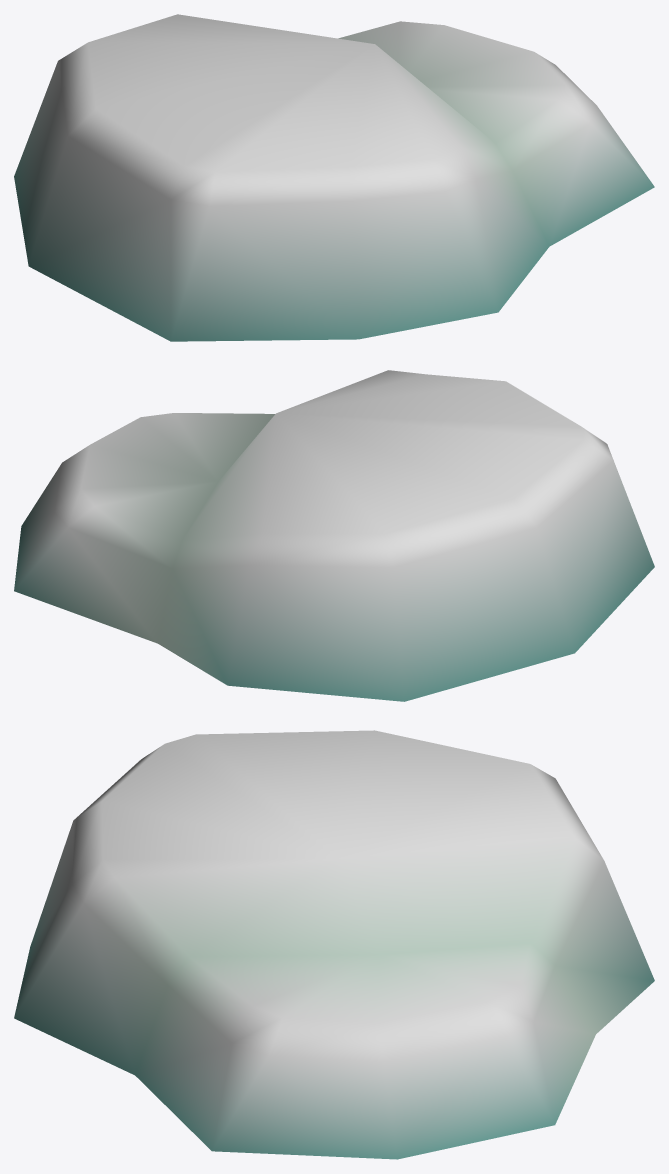
File: rock-grass.glb
The picture shows the model from 3 angles, top to bottom: view 1: azimuth 30°, elevation 25°; view 2: azimuth 150°, elevation 25°; view 3: azimuth 270°, elevation 25°; orthographic projection. The views are drawn at different scales.
Parts seen in each view (by area): view 1: rock-grass; view 2: rock-grass; view 3: rock-grass.
Boxes of the visible parts, x1=… form: rock-grass: x1=14, y1=14, x2=654, y2=341; rock-grass: x1=14, y1=370, x2=654, y2=701; rock-grass: x1=14, y1=730, x2=654, y2=1159.
Bounding box in the file's own units: 0.6449 × 0.1693 × 0.5705.
